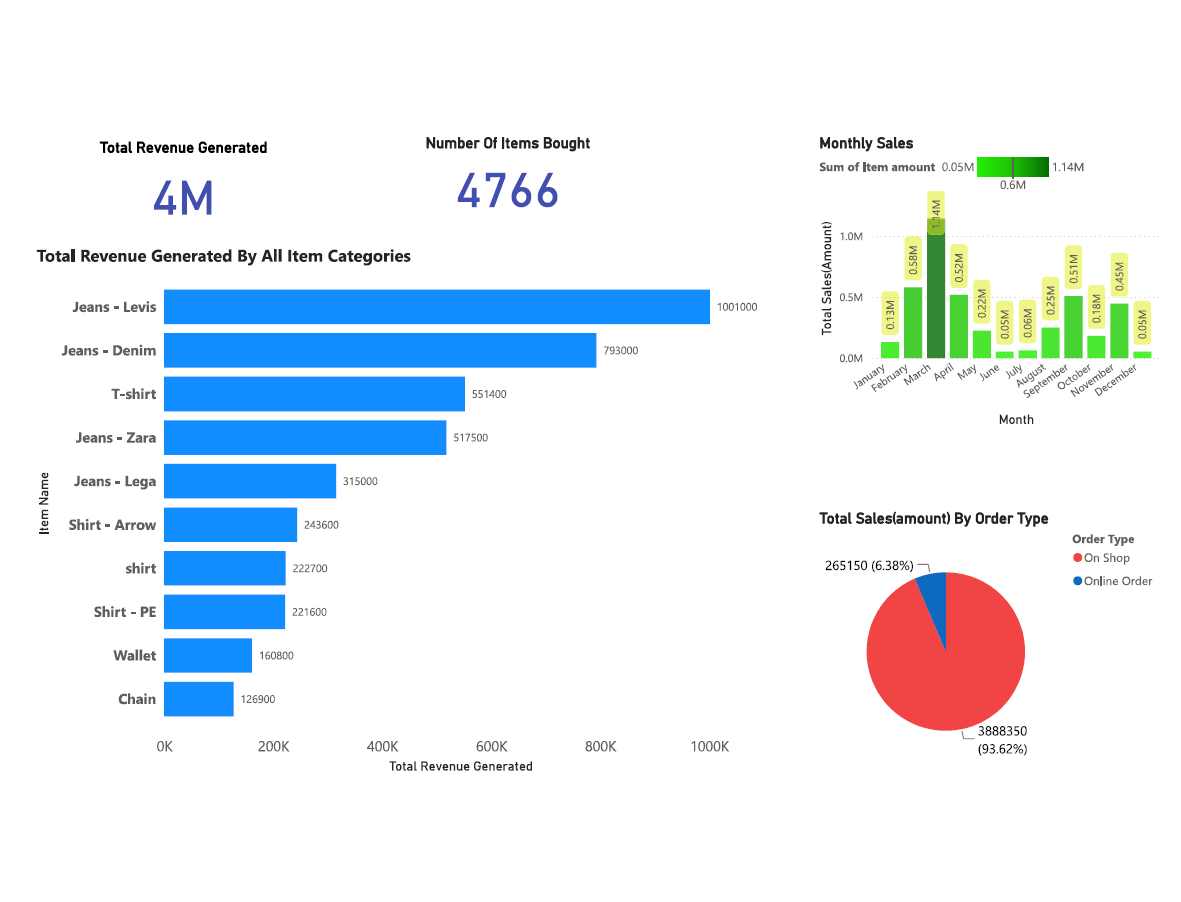

What the dashboard file says about the page in this screenshot:
{"tool":"powerbi","page":{"name":"Page 1","canvas":[1280,720],"ordinal":0},"visuals":[{"type":"clusteredBarChart","title":"Total Revenue Generated By All Item Categories","fields":{"Category":["Data.Item name"],"Y":["Sum(Data.Item amount)"]},"box":[11.6,123.3,839.5,597.7],"z":0},{"type":"card","title":"Total Revenue Generated","fields":{"Values":["Sum(Data.Item amount)"]},"box":[0,0,362.8,104.7],"z":1},{"type":"card","title":"Number Of Items Bought","fields":{"Values":["Sum(Data.Item quantity)"]},"box":[362.8,0,362.8,93],"z":2},{"type":"clusteredColumnChart","title":"Monthly Sales ","fields":{"Category":["Data.Sale date.Variation.Date Hierarchy.Month"],"Y":["Sum(Data.Item amount)"]},"box":[888.4,0,391.9,332.6],"z":3},{"type":"pieChart","title":"Total Sales(amount) By Order Type","fields":{"Category":["Data.Ordertype name"],"Y":["Sum(Data.Item amount)"]},"box":[888.4,419.8,391.9,300],"z":4}]}

Visuals, with their boxes on the page's 1280x720 design canvas (x1, y1, x2, y2). These are canvas units, not pixel positions in the 1181x902 screenshot, which may show the page scaled, cropped or inside an application window:
"Total Revenue Generated By All Item Categories" clusteredBarChart: l=12, t=123, r=851, b=721
"Total Revenue Generated" card: l=0, t=0, r=363, b=105
"Number Of Items Bought" card: l=363, t=0, r=726, b=93
"Monthly Sales " clusteredColumnChart: l=888, t=0, r=1280, b=333
"Total Sales(amount) By Order Type" pieChart: l=888, t=420, r=1280, b=720
